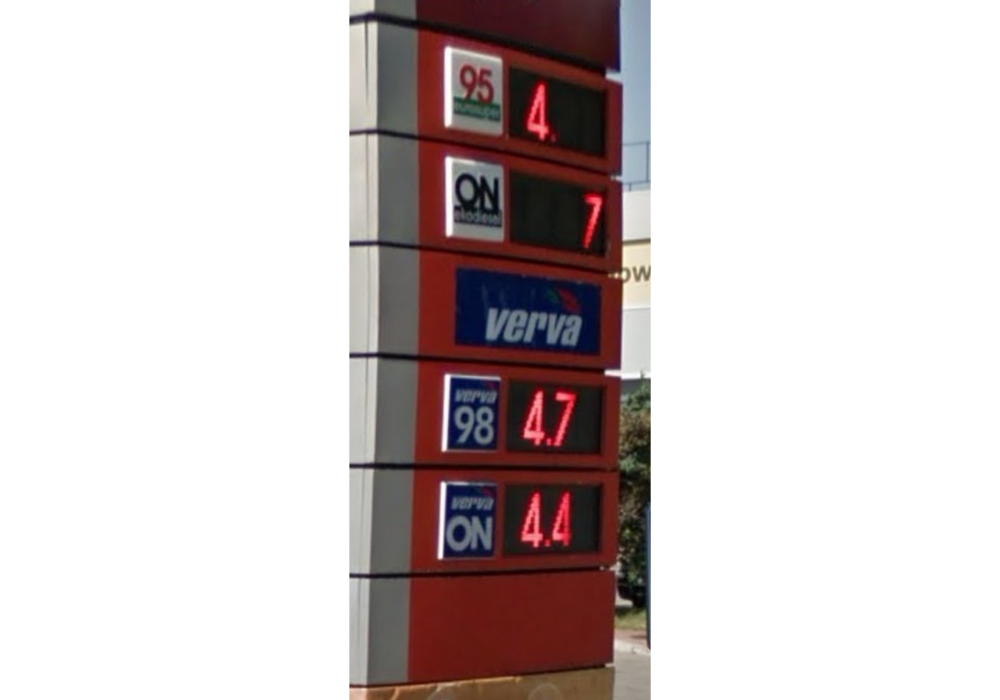ON: (443, 154, 504, 245), (434, 477, 496, 560)
PB95: (439, 44, 504, 139)
PB98: (439, 369, 501, 457)
